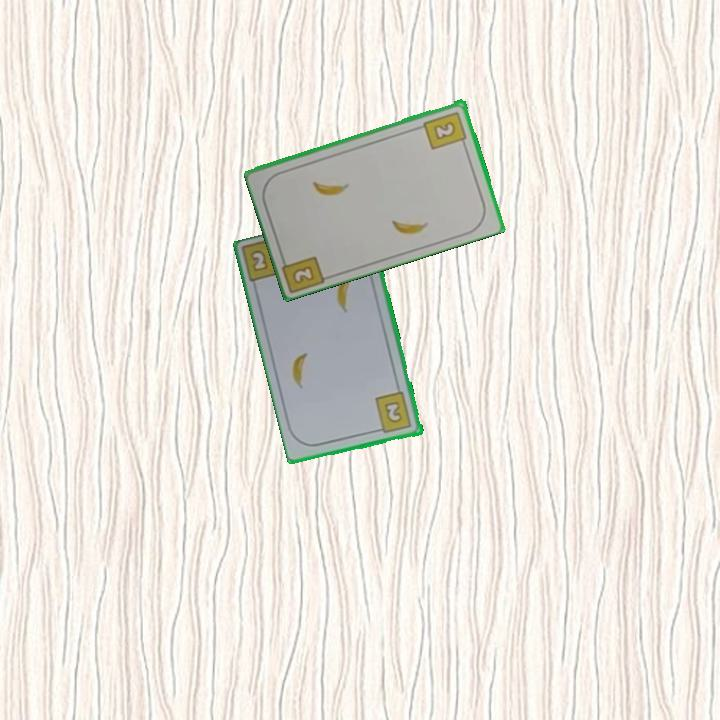2b: (420, 108, 469, 152), (372, 389, 415, 436), (289, 262, 318, 287), (249, 249, 269, 272)
